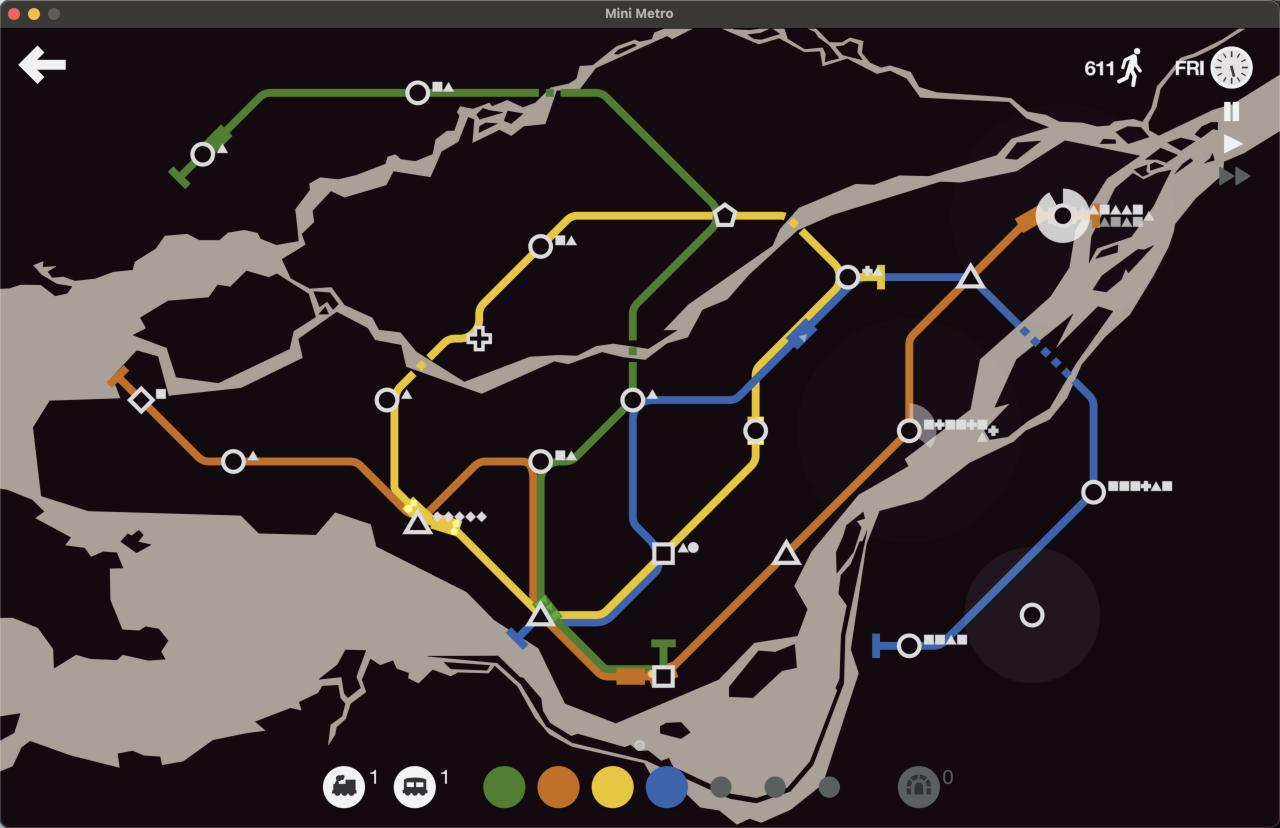CIRCLE: (896, 417, 924, 444), (404, 79, 431, 106), (743, 417, 769, 445), (189, 141, 216, 167), (620, 387, 647, 413), (1080, 479, 1107, 505), (374, 387, 400, 413), (1019, 602, 1045, 628), (527, 233, 553, 259), (528, 448, 554, 474), (221, 448, 246, 474), (836, 264, 861, 290), (897, 632, 922, 658), (1053, 207, 1072, 224)
CROSS: (466, 325, 493, 352)
GEM: (127, 385, 156, 414)
PENTAGON: (712, 202, 738, 229)
SQUARE: (649, 665, 677, 689), (651, 541, 675, 565)
TRIANGLE: (523, 600, 557, 629), (402, 506, 433, 536), (956, 261, 988, 290), (772, 538, 803, 567)
